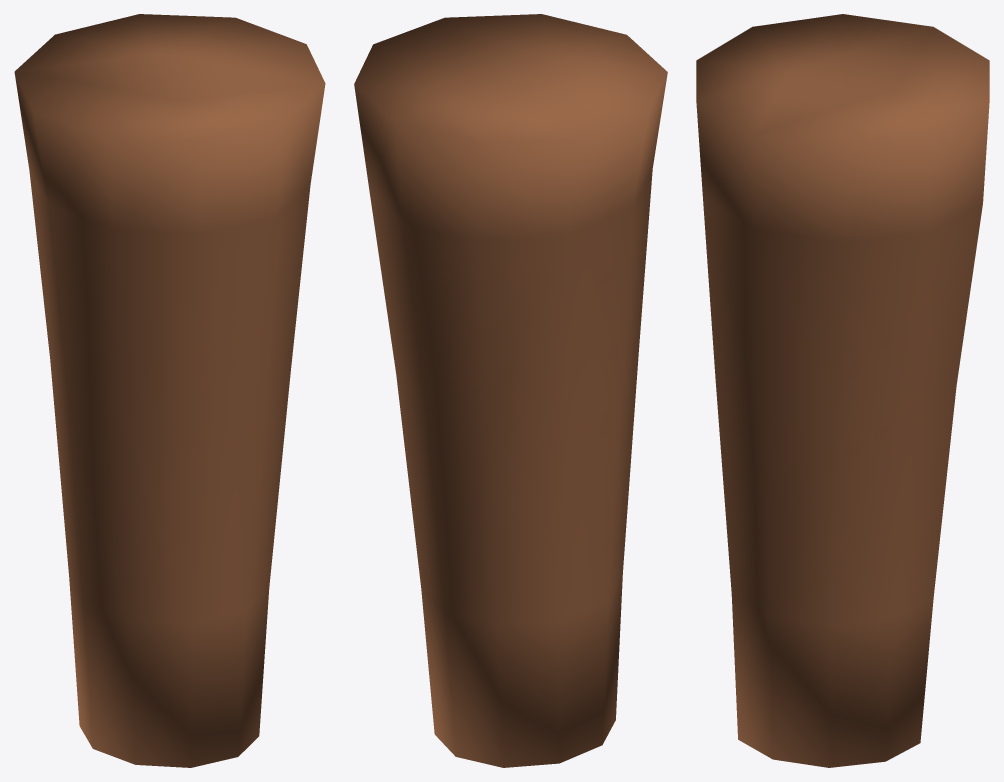
The model's file is musloizq.obj.
The picture shows the model from 3 angles, left to right: view 1: azimuth 30°, elevation 25°; view 2: azimuth 150°, elevation 25°; view 3: azimuth 270°, elevation 25°; orthographic projection.
Parts seen in each view (by area): view 1: MusloIzq; view 2: MusloIzq; view 3: MusloIzq.
Boxes of the visible parts, bbox=[...] form: MusloIzq: bbox=[14, 14, 325, 767]; MusloIzq: bbox=[354, 14, 667, 767]; MusloIzq: bbox=[696, 14, 989, 767].
Bounding box in the file's own units: 0.117 × 0.2654 × 0.1079.
1 material, 1 textured.
